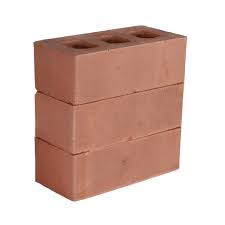brick: (73, 34, 187, 106), (74, 127, 182, 203), (73, 83, 184, 156)
